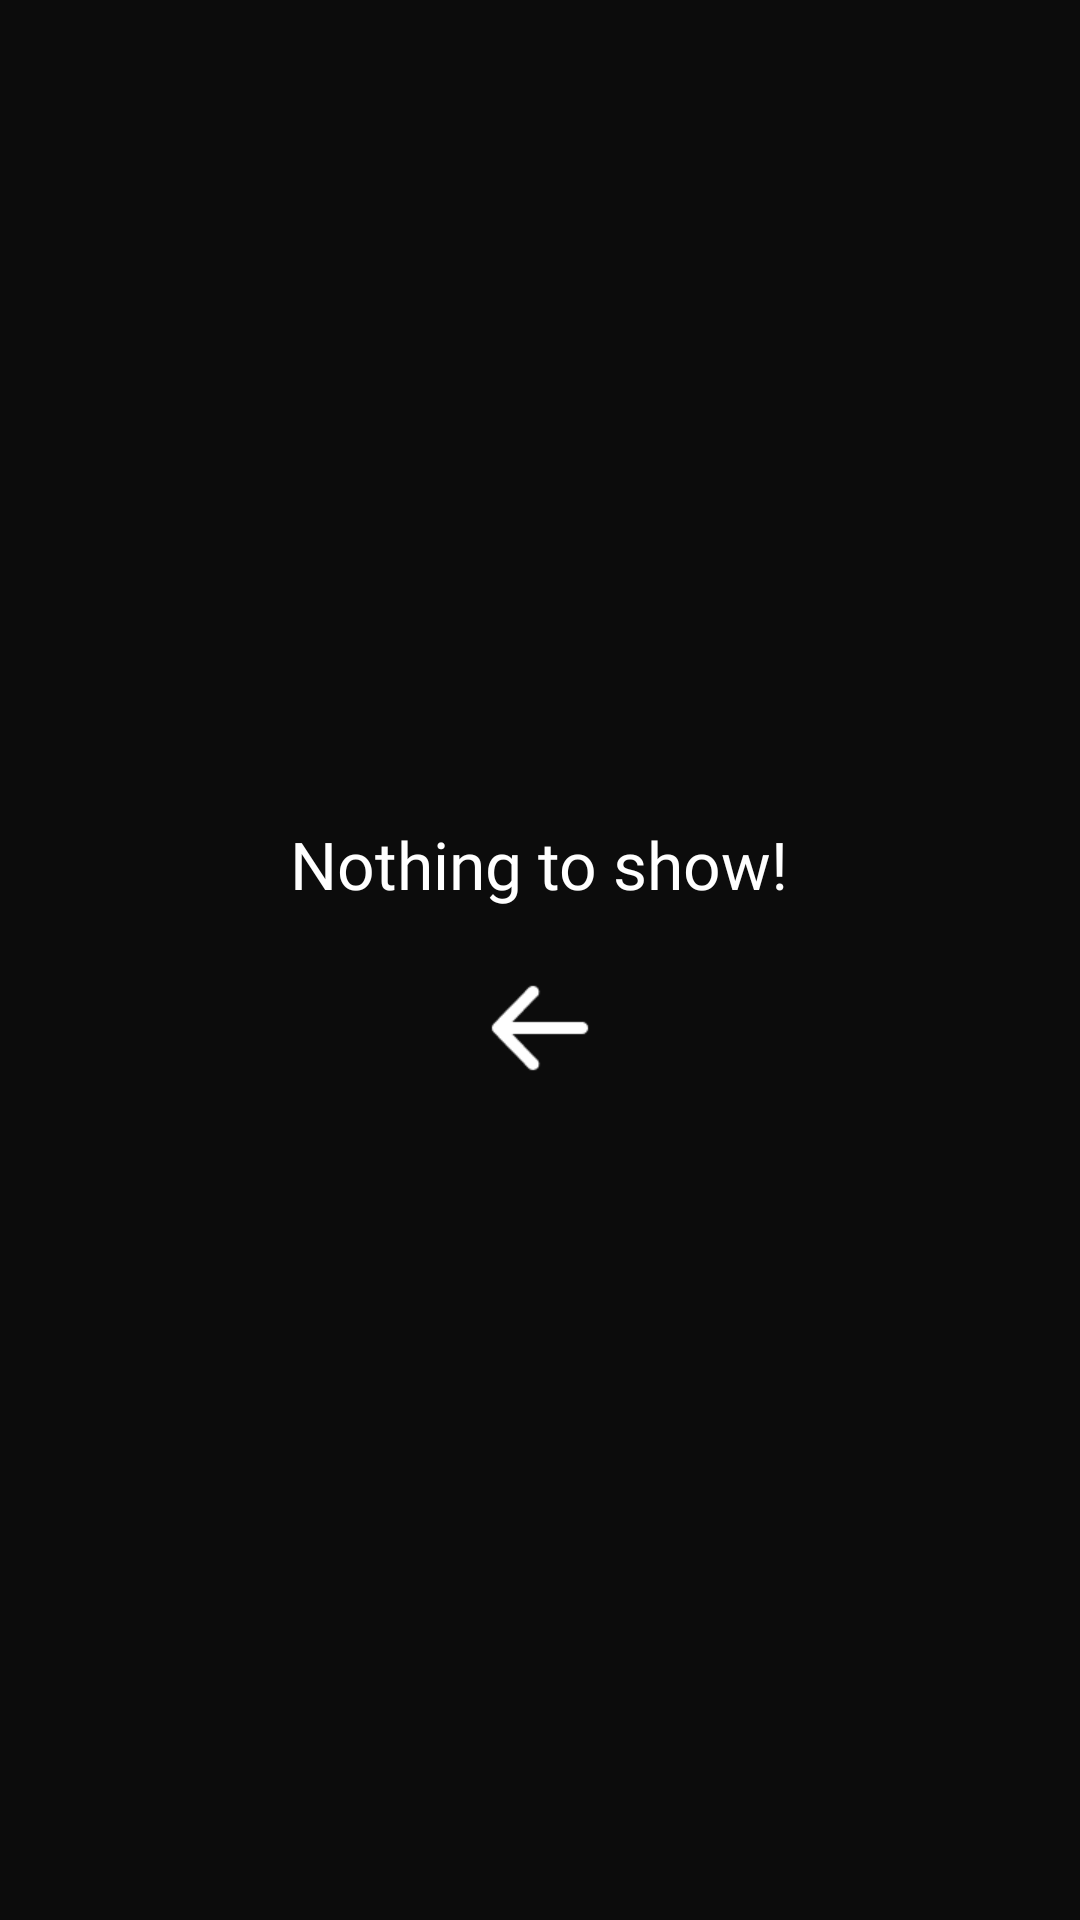

Icon click points for this 1080 x 1920 phone screenshot, format (x=x, y=y):
back: (x=540, y=1028)
